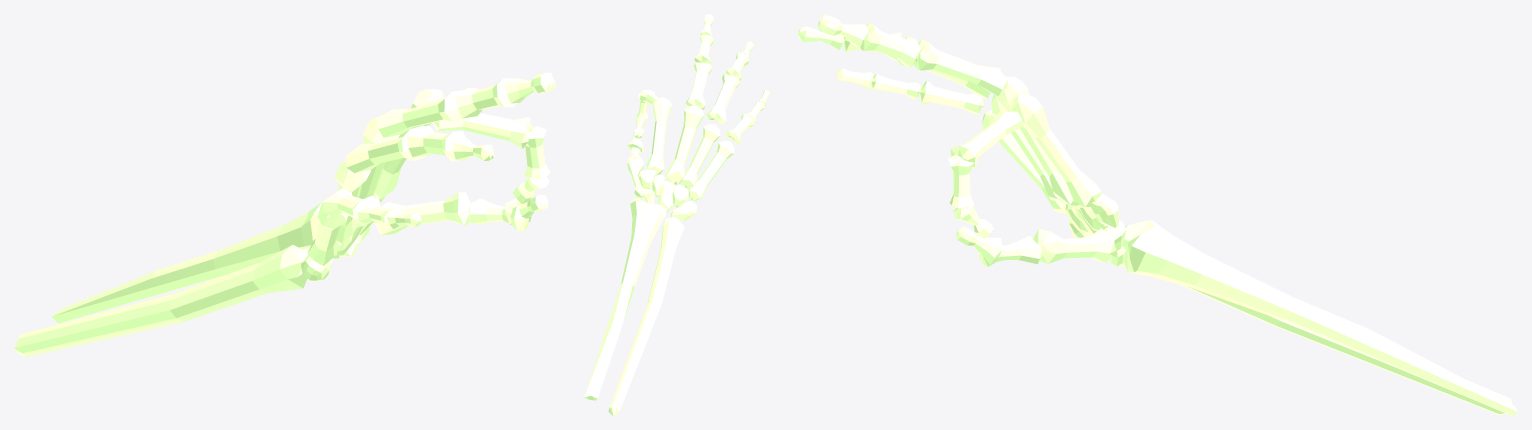
The model's file is hand pose 2.fbx.
3 renders of one model, left to right at view 1: azimuth 30°, elevation 25°; view 2: azimuth 150°, elevation 25°; view 3: azimuth 270°, elevation 25°, orthographic. The views are drawn at different scales.
Parts seen in each view (by area): view 1: Cube.025; view 2: Cube.025; view 3: Cube.025.
Boxes of the visible parts, <box> form: Cube.025: <box>14,72,555,357</box>; Cube.025: <box>584,14,769,415</box>; Cube.025: <box>798,14,1517,415</box>.
Size of the model in its own units: 111 by 213 by 291.
